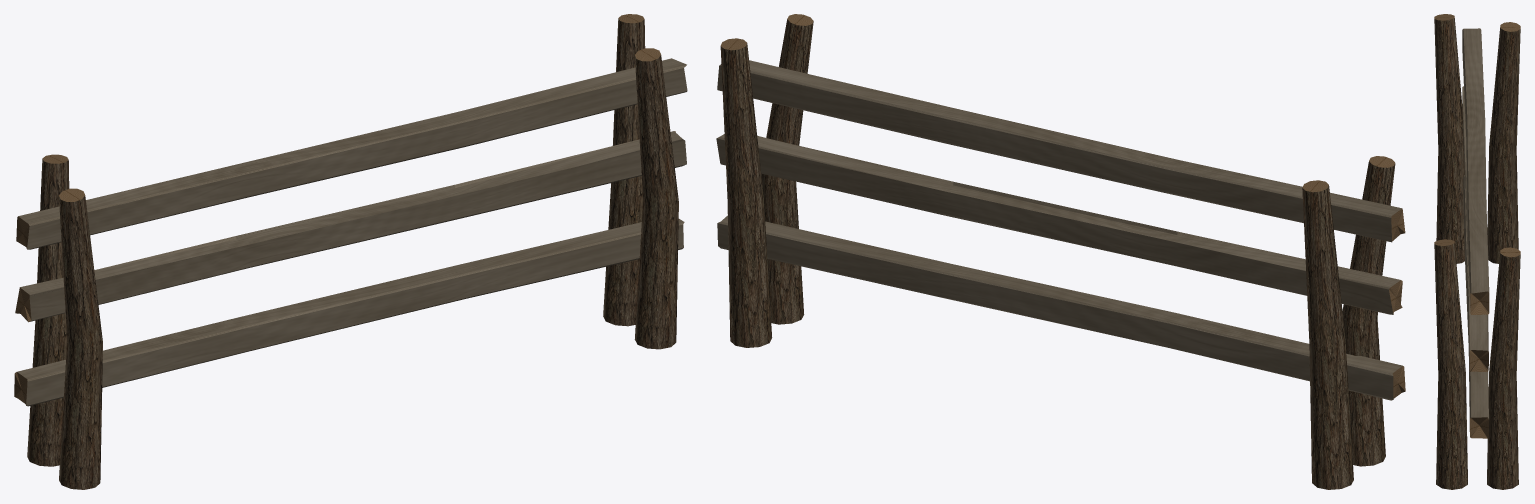
Rendered from fence_splitrail.fbx.
3 views of the same model, side by side, from view 1: azimuth 30°, elevation 25°; view 2: azimuth 150°, elevation 25°; view 3: azimuth 270°, elevation 25° (orthographic). The views are drawn at different scales.
Parts seen in each view (by area): view 1: fence_splitrail; view 2: fence_splitrail; view 3: fence_splitrail.
Boxes of the visible parts, left/top/right/bottom form: fence_splitrail: left=14, top=14, right=687, bottom=489; fence_splitrail: left=716, top=14, right=1405, bottom=489; fence_splitrail: left=1434, top=14, right=1520, bottom=489.
Size of what is drawn, in the model's own units: 2.43 by 1.03 by 0.3398.
Materials: 1 (1 with a texture image).
